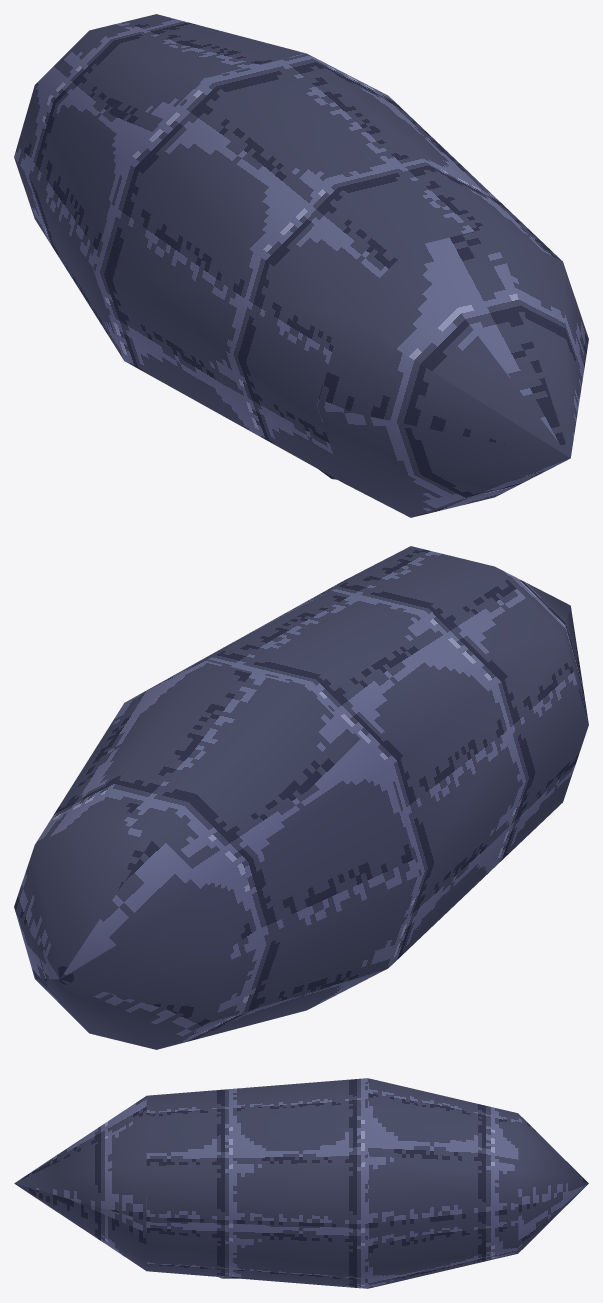
Rendered from cysky.airship.glb.
3 renders of one model, top to bottom at view 1: azimuth 30°, elevation 25°; view 2: azimuth 150°, elevation 25°; view 3: azimuth 270°, elevation 25°, orthographic. The views are drawn at different scales.
Parts seen in each view (by area): view 1: kit_body; view 2: kit_body; view 3: kit_body.
Part boxes in pixels (x1,y1,x2,y2): kit_body: (14,14,588,517); kit_body: (14,546,588,1049); kit_body: (14,1078,588,1288).
Size of the model in its own units: 2.4 by 2.28 by 6.5.
Materials: 3 (3 with a texture image).
